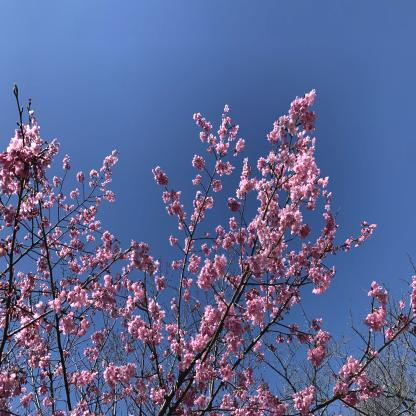YaeSakura: (0, 82, 416, 416)
